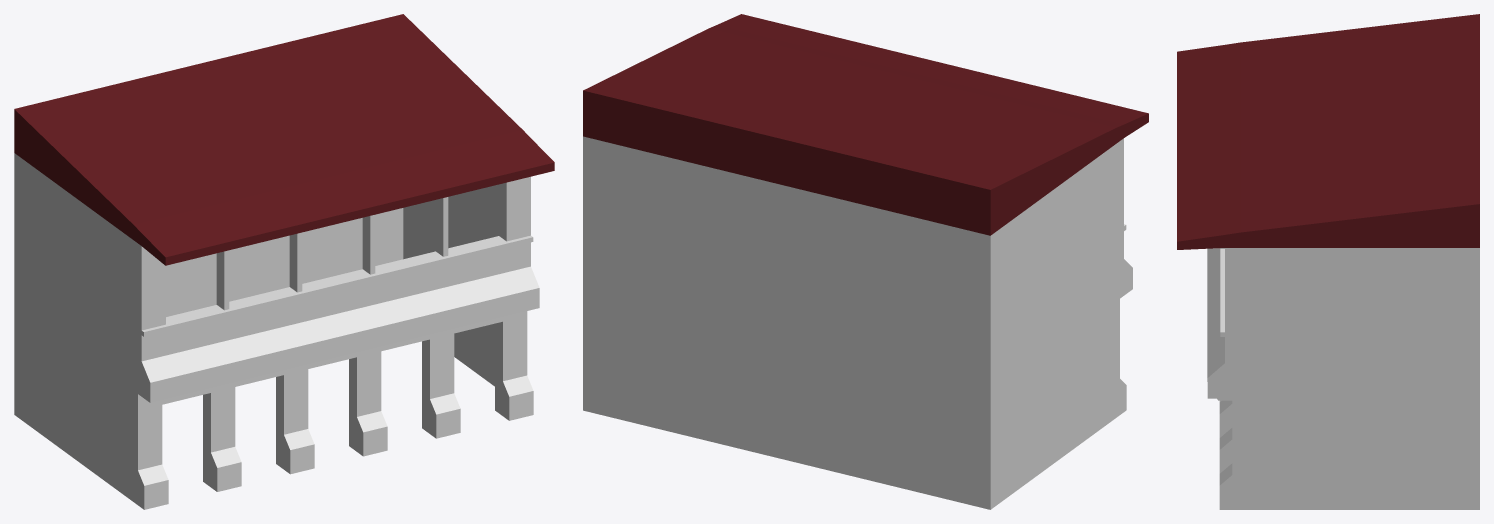
The model's file is House_4_TEX.fbx.
3 views of the same model, side by side, from view 1: azimuth 30°, elevation 25°; view 2: azimuth 150°, elevation 25°; view 3: azimuth 270°, elevation 25° (orthographic). The views are drawn at different scales.
Visible parts, largest first — view 1: Cube; view 2: Cube; view 3: Cube.
Part boxes in pixels (x1=…): Cube: x1=14, y1=14, x2=554, y2=509; Cube: x1=583, y1=14, x2=1148, y2=509; Cube: x1=1177, y1=14, x2=1479, y2=509.
Size of the model in its own units: 1599 by 1200 by 1077.
